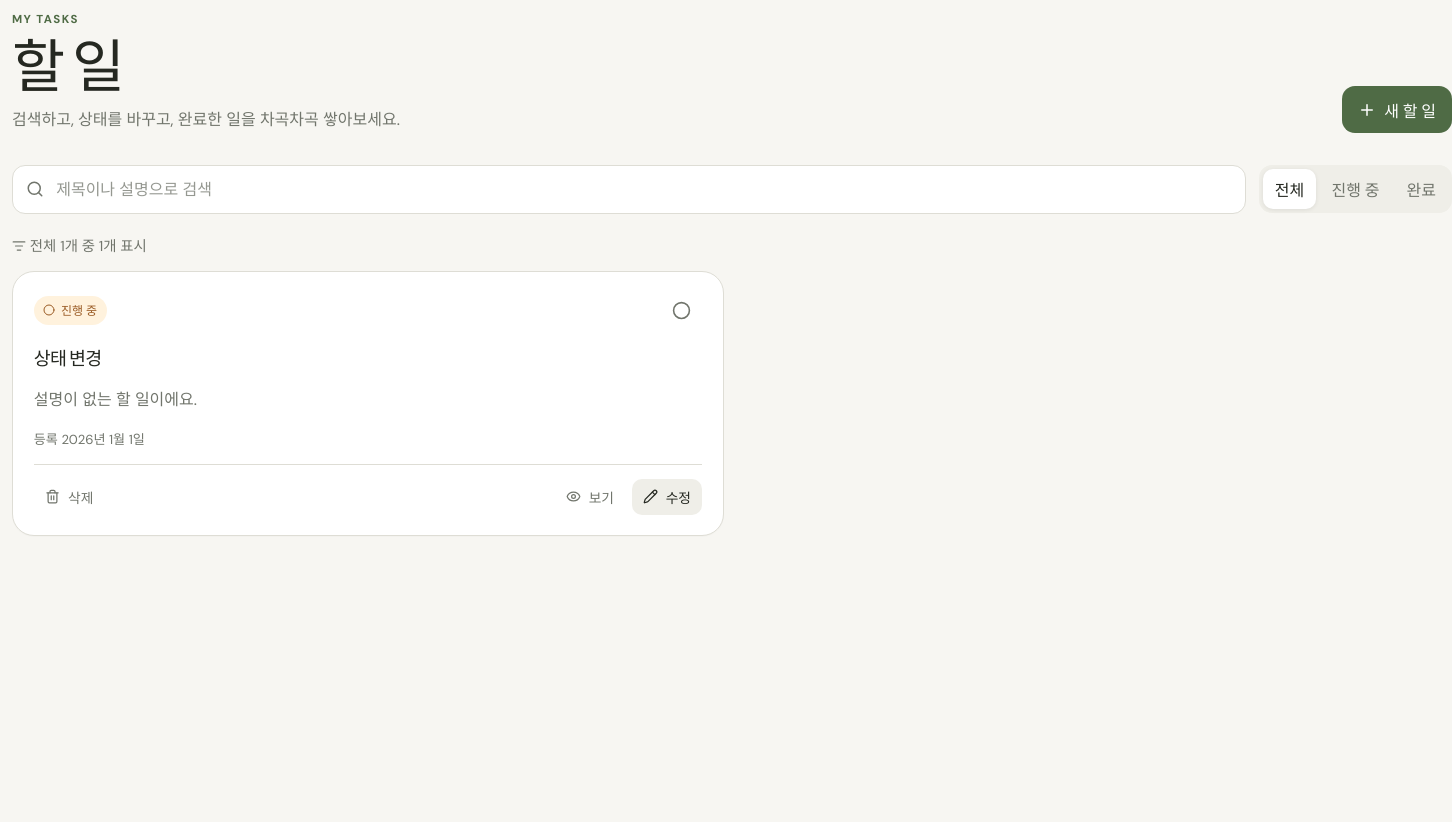
Test: TodosPage › 상태 변경 이벤트 후 완료 상태로 다시 렌더링한다
Expected: the link "상태 변경" is shown, left=34, top=345, right=102, bottom=371
Click the 4th button. click: (682, 310)
box: left=661, top=292, right=702, bottom=328
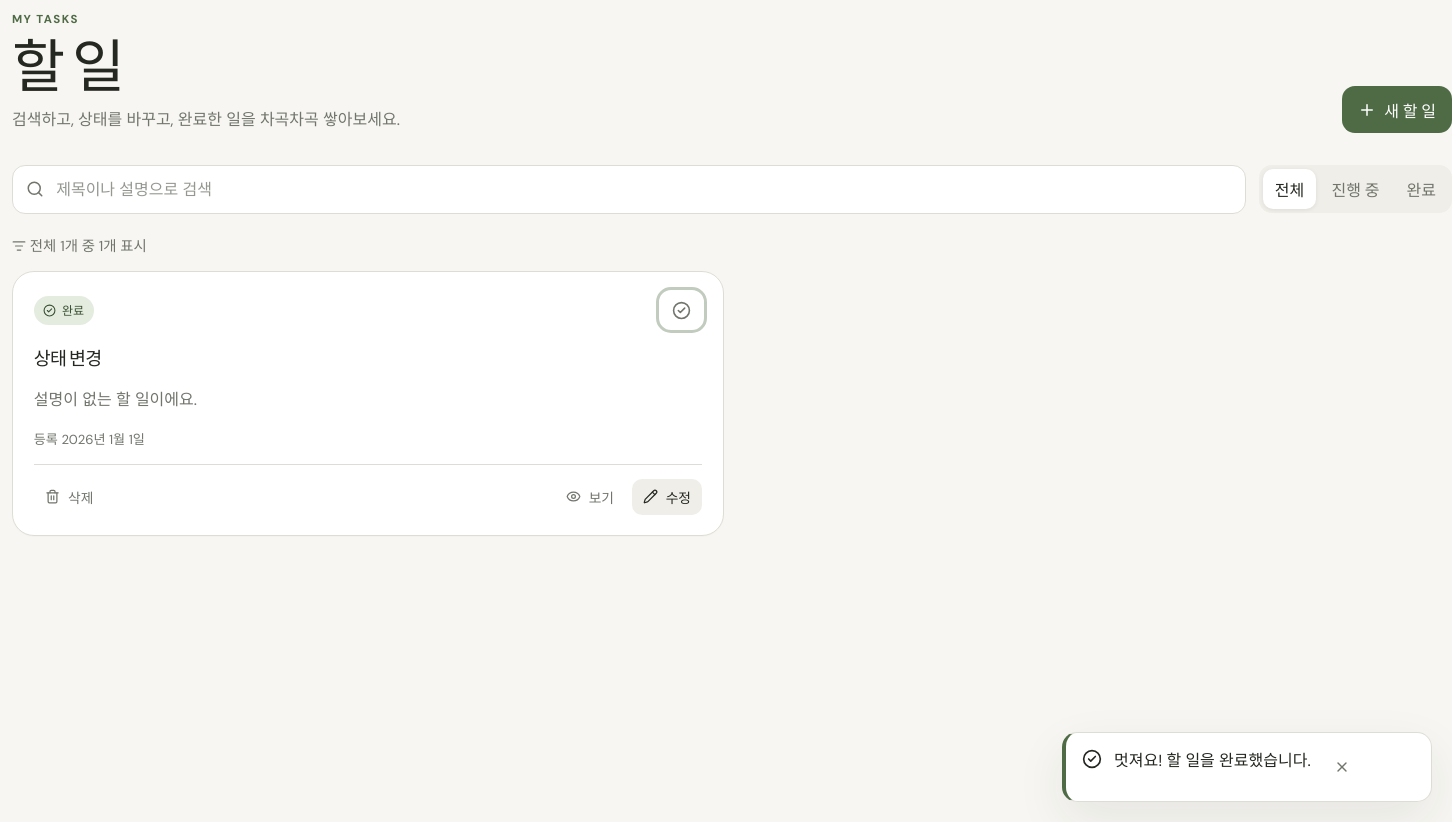
Expected: the text "완료" is shown, left=34, top=296, right=94, bottom=325
